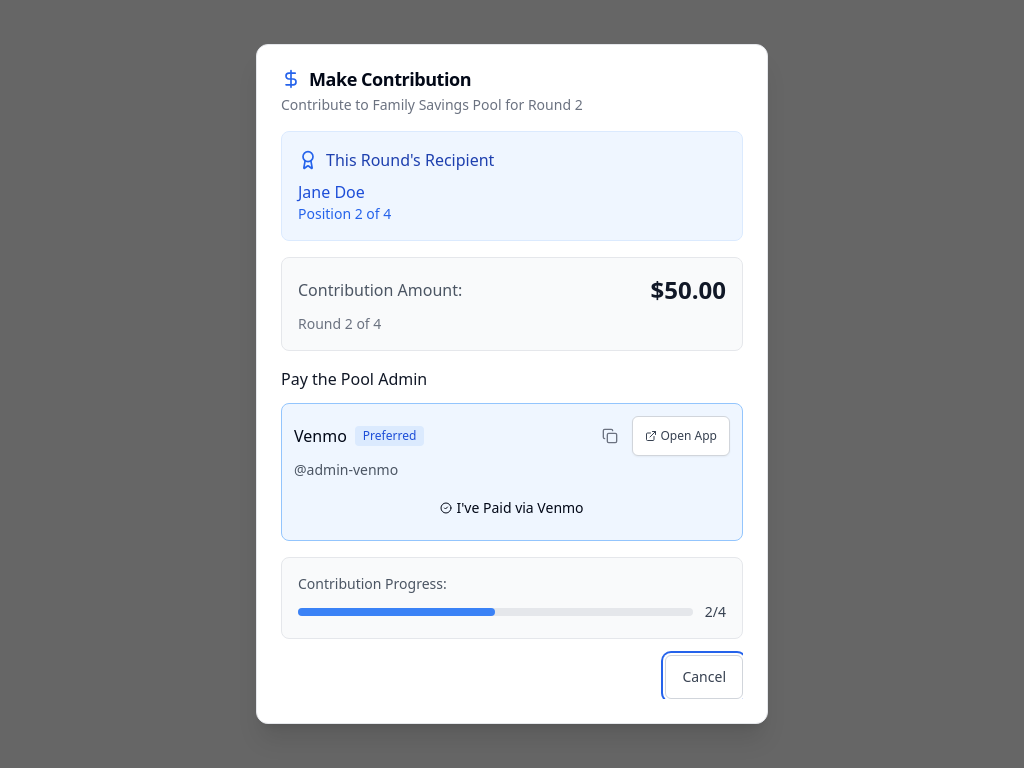
Test case: ContributionModal Component › Form Submission › shows success message after successful payment confirmation
Click the button "I've Paid via Venmo" at point(512, 508), box 294,488 -> 730,528
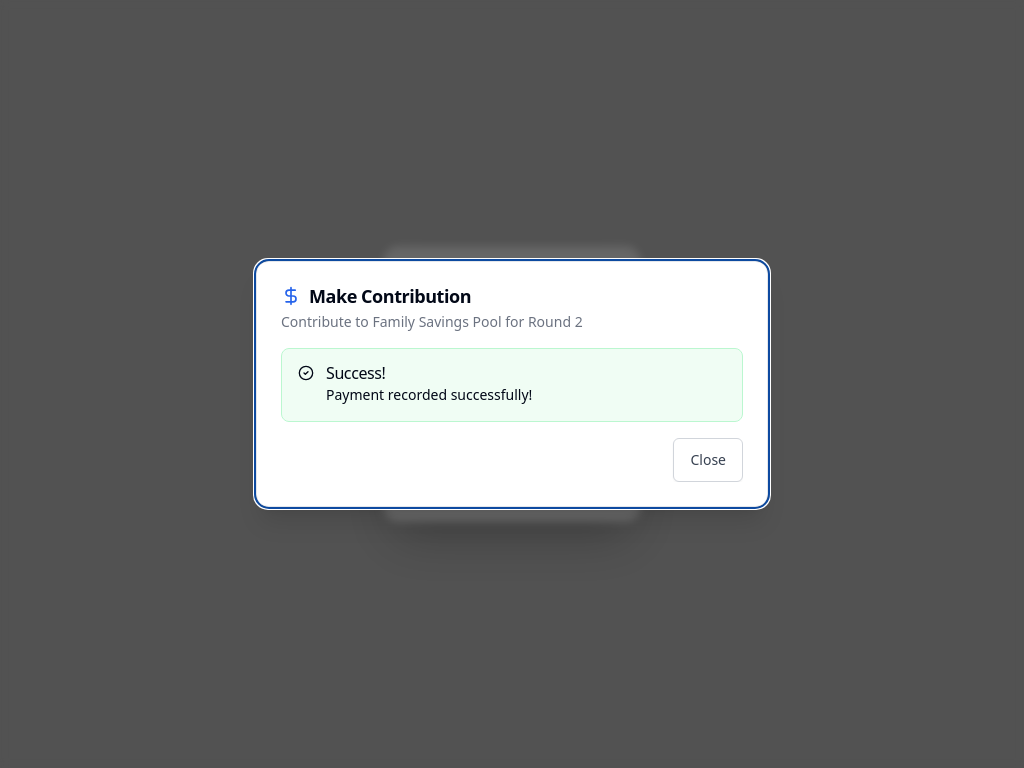
Expected: the heading "Success!" is shown, 326,362 -> 386,384
Expected: the text "Payment recorded successfully!" is shown, 326,385 -> 532,404
